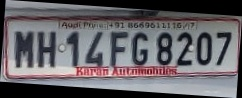character: (13, 30, 34, 68), (37, 29, 56, 69), (84, 29, 103, 67), (109, 31, 128, 66), (131, 31, 149, 65), (176, 32, 193, 65), (156, 31, 172, 66), (196, 31, 212, 66), (216, 31, 232, 64), (66, 30, 79, 68)
